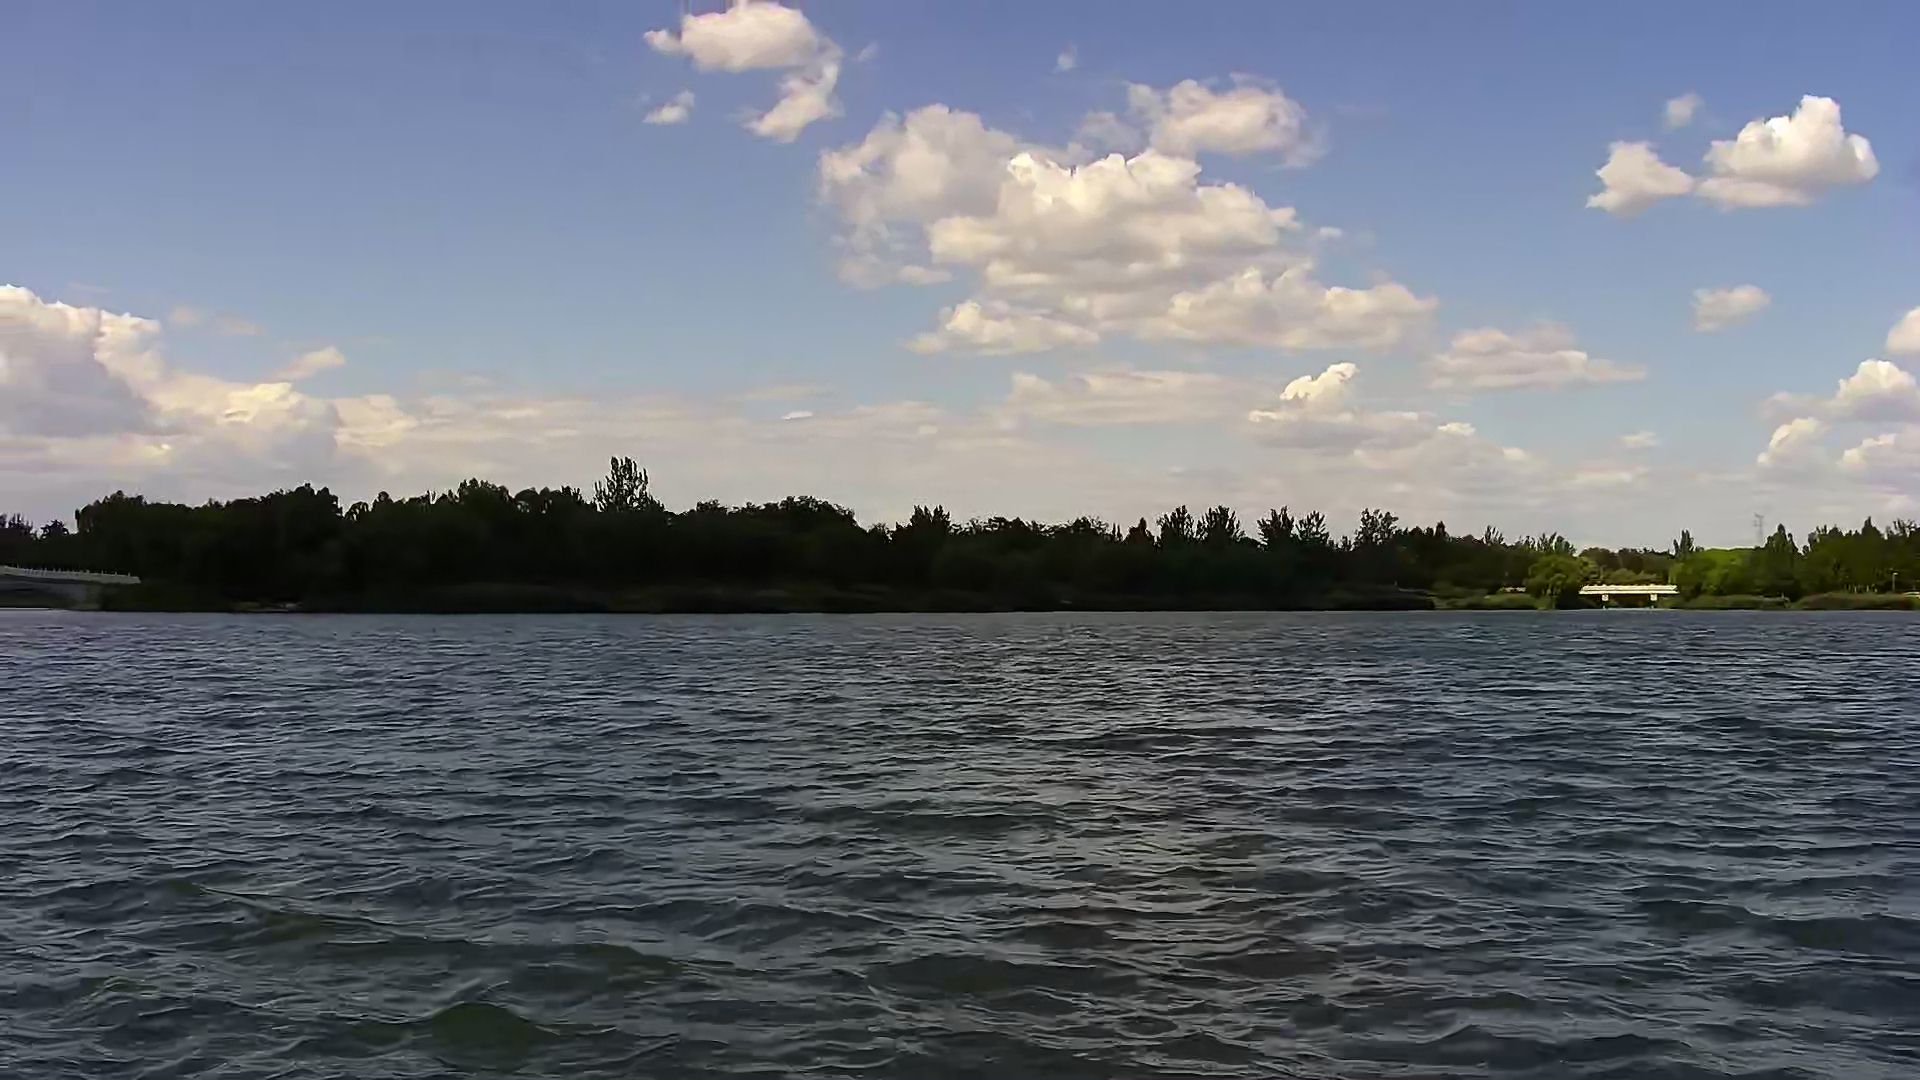bridge: (1, 566, 140, 611), (1580, 583, 1677, 611)
